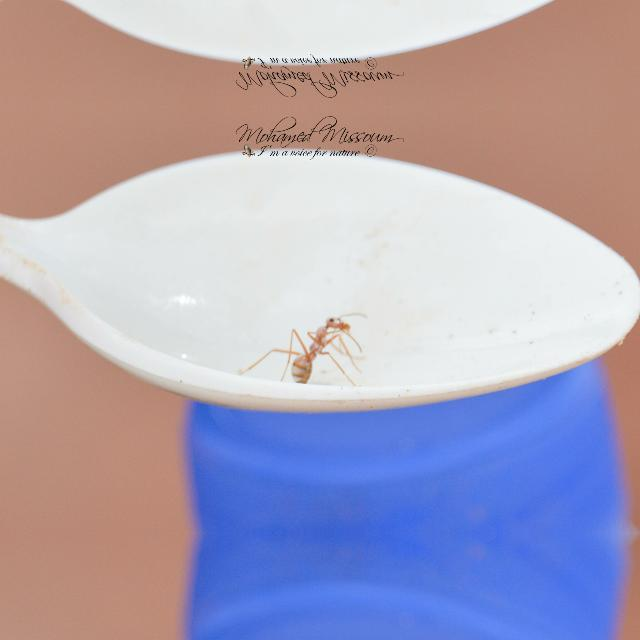Cataglyphis: (254, 308, 374, 394)
